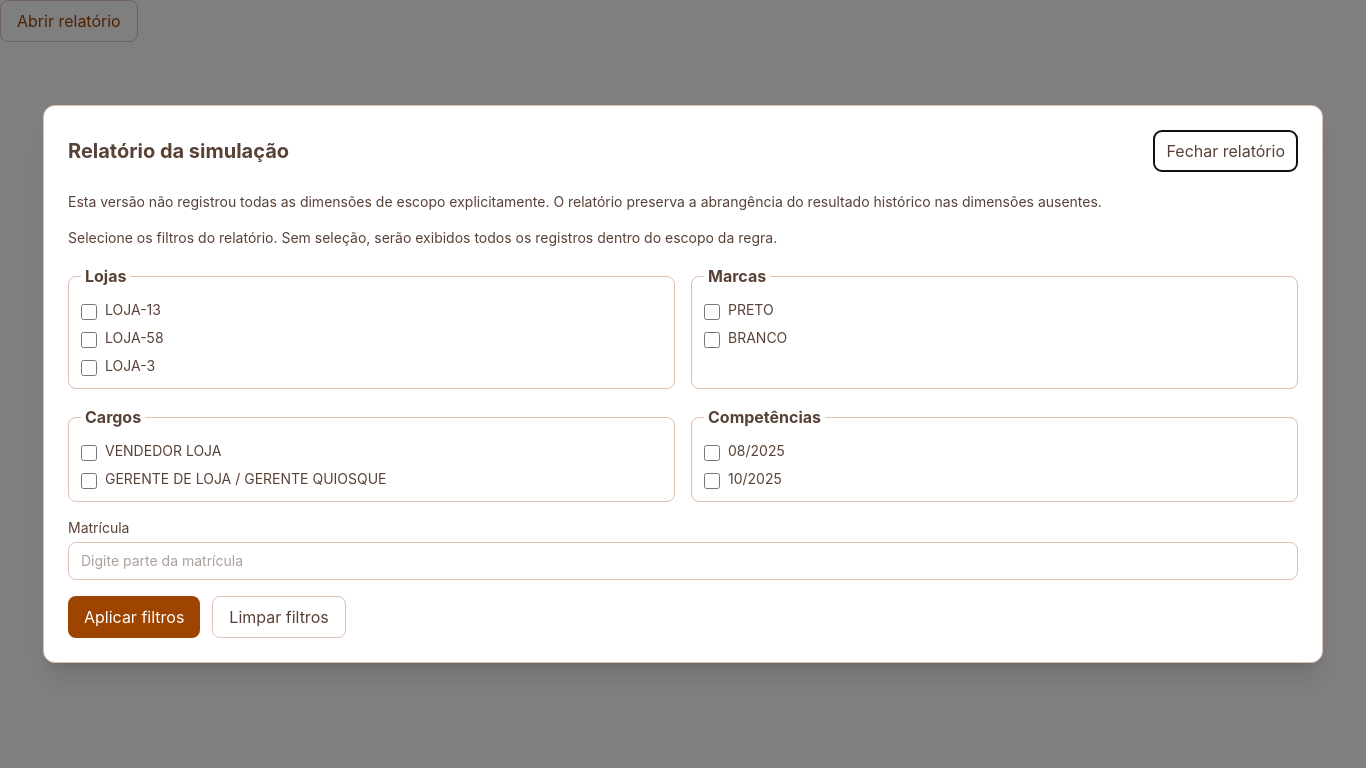
Test: distingue escopo histórico ausente de declaração universal e usa competências descontínuas do job
Click the button "Aplicar filtros": click(134, 617) [68, 596, 200, 638]
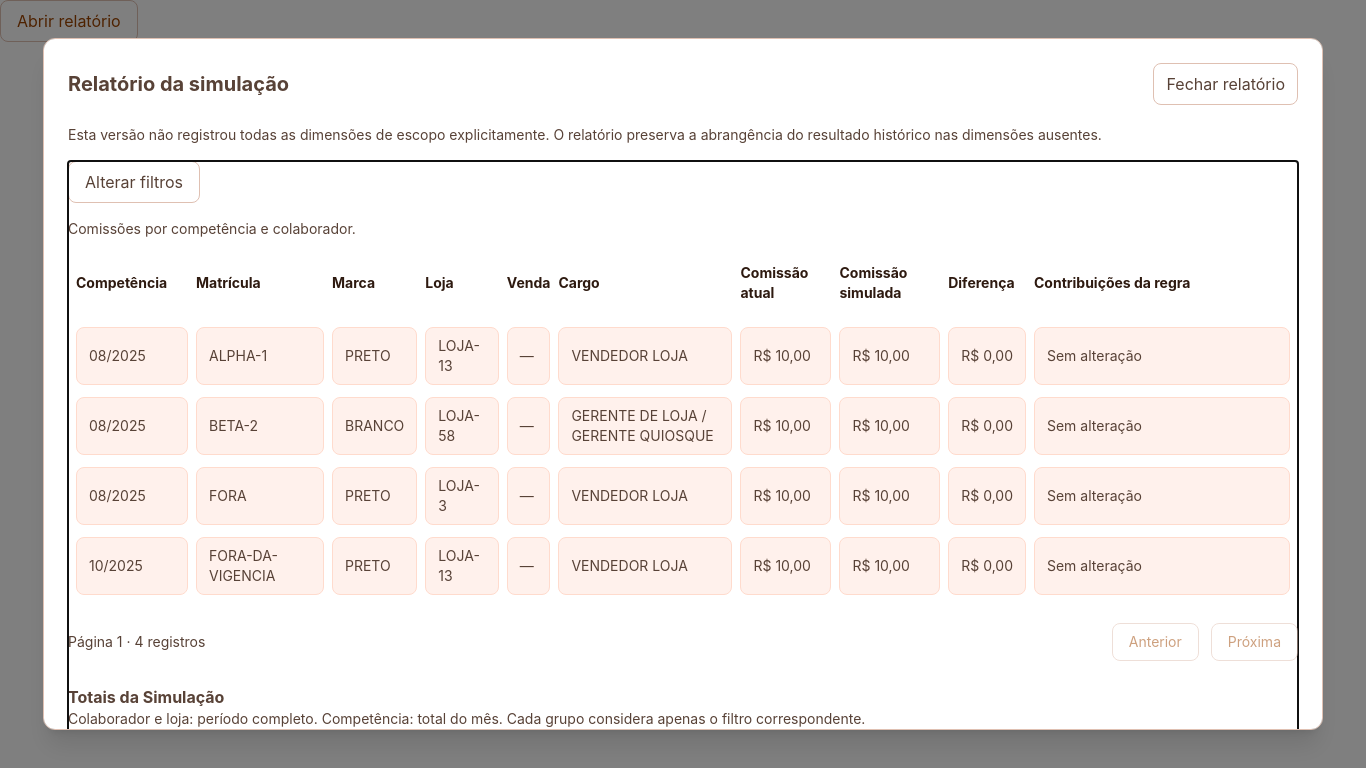
expect the table shows "FORA": met, box [209, 487, 247, 504]
